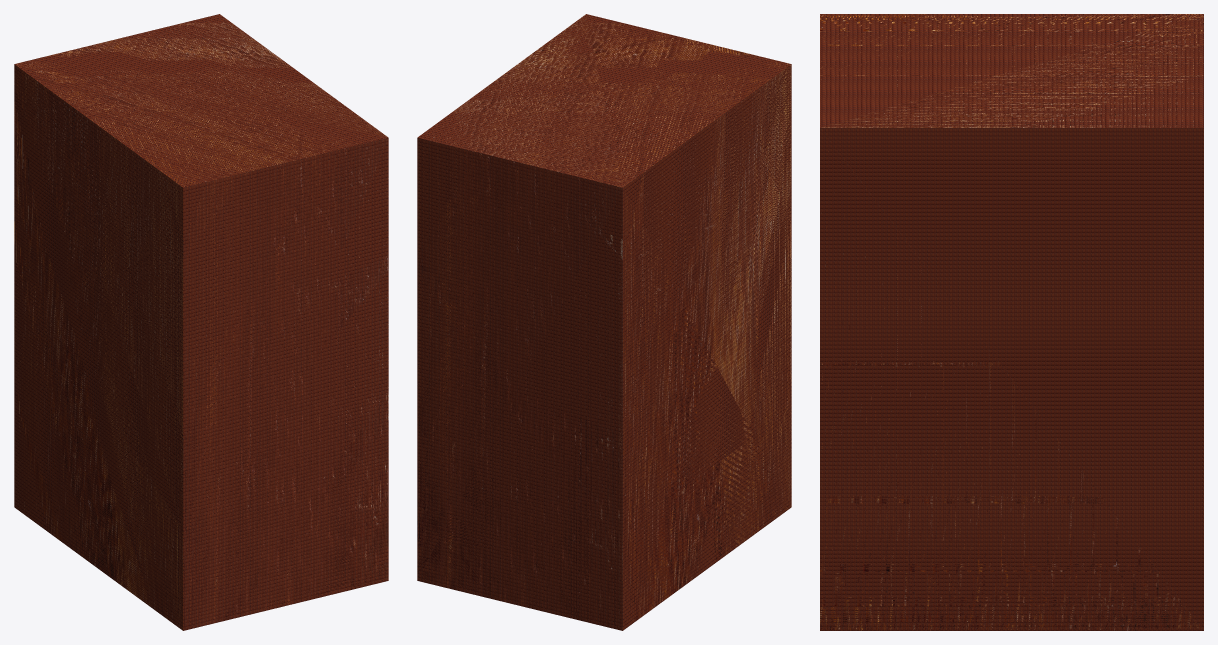
File: kekatung.glb
The picture shows the model from 3 angles, left to right: view 1: azimuth 30°, elevation 25°; view 2: azimuth 150°, elevation 25°; view 3: azimuth 270°, elevation 25°; orthographic projection. The views are drawn at different scales.
Visible parts, largest first — view 1: BackSide, FrontSide; view 2: BackSide, FrontSide; view 3: BackSide, FrontSide.
Boxes of the visible parts, <box> form: BackSide: <box>14,14,388,630</box>; FrontSide: <box>14,21,388,630</box>; BackSide: <box>417,14,791,630</box>; FrontSide: <box>417,15,791,630</box>; BackSide: <box>820,14,1203,630</box>; FrontSide: <box>820,14,1203,630</box>.
Bounding box in the file's own units: 1.54 × 3.18 × 2.2.
3 materials, 3 textured.
